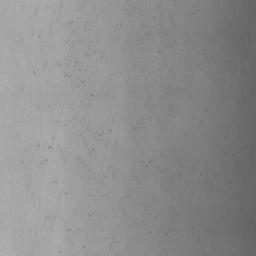Silk spot: (131, 119, 145, 130)
